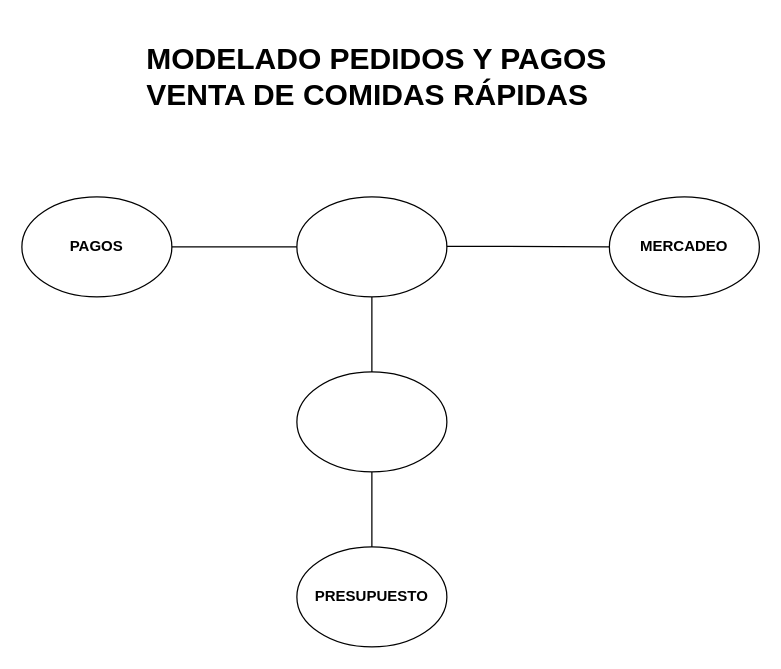
Some shapes in this 781 by 669 pixel diagram are drawn without their labels. The box of each missing label's shape, as (x1, y1, x2, y2) in pixels:
PEDIDOS: (296, 196, 447, 297)
PRODUCCION: (296, 371, 447, 472)
